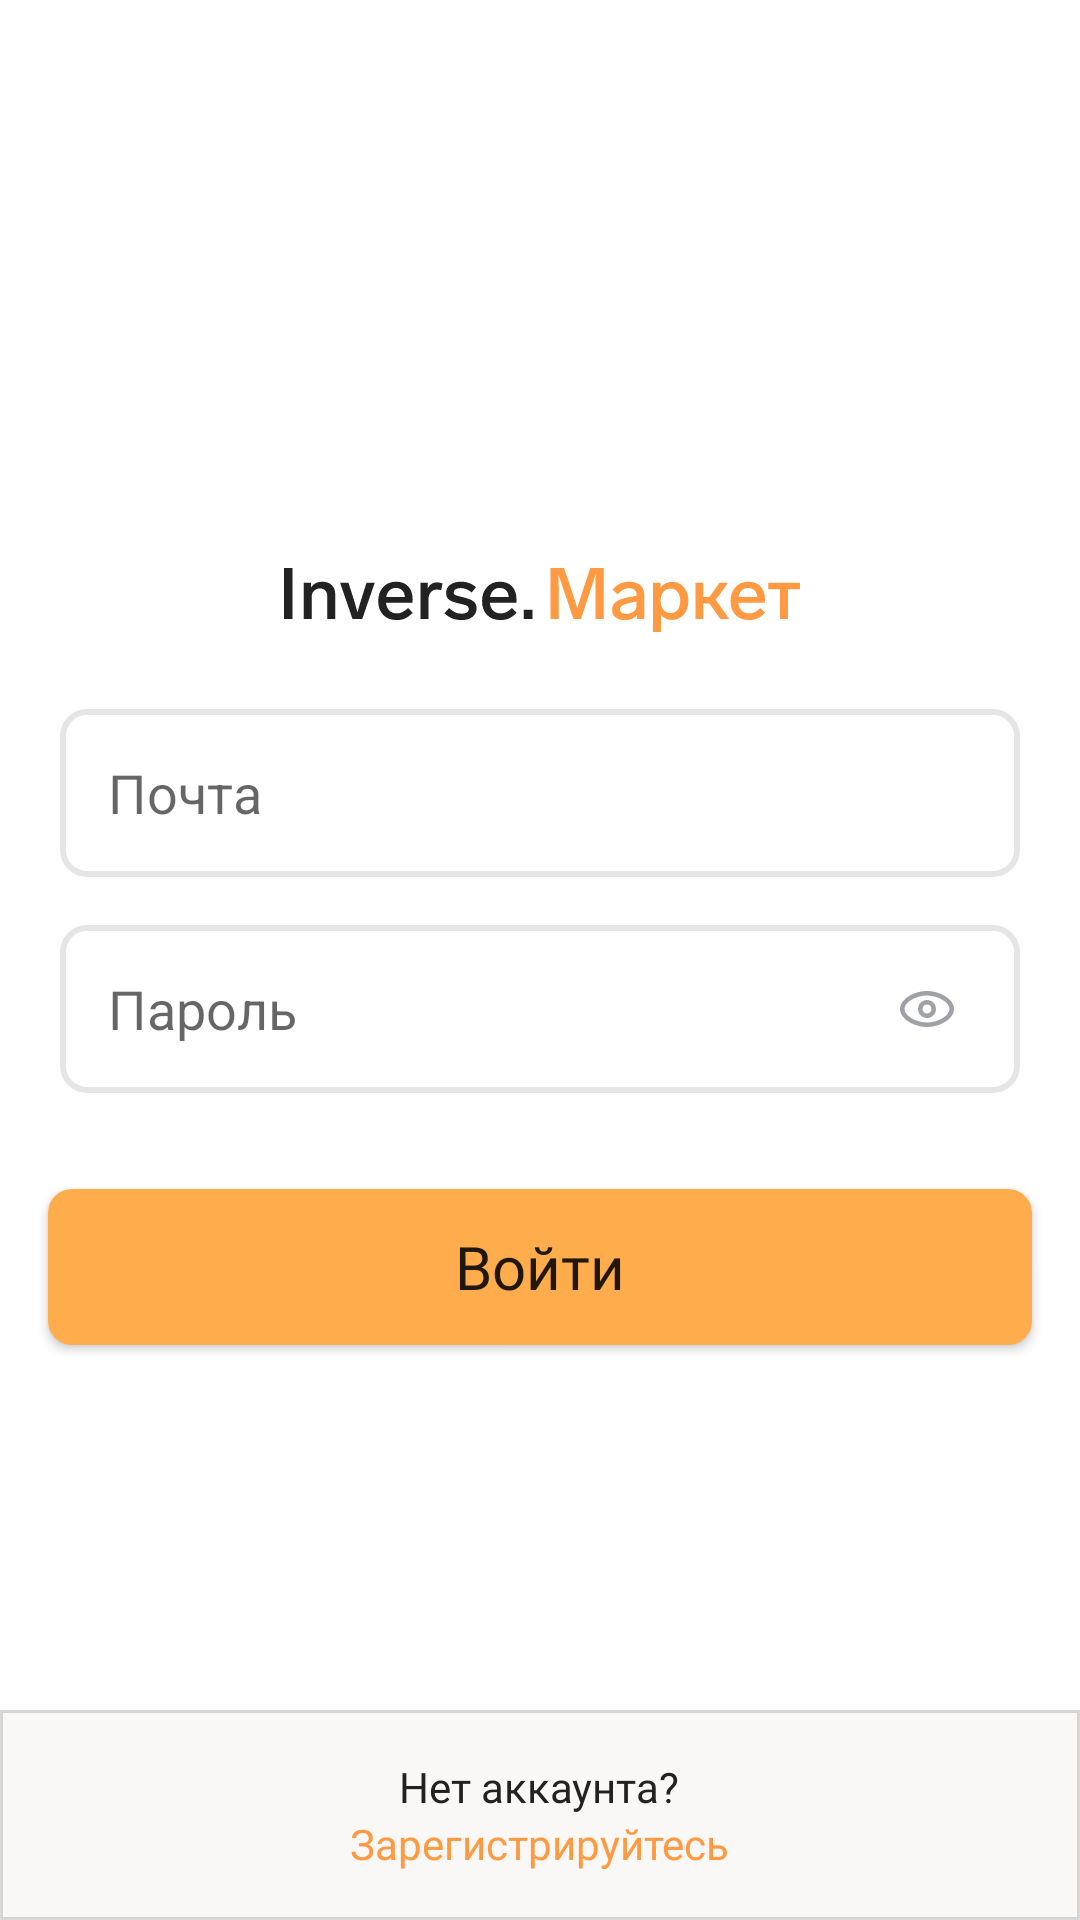

Icon click points for this 1080 × 1920 phone screenshot, format point (x, y):
view: point (927, 1009)
